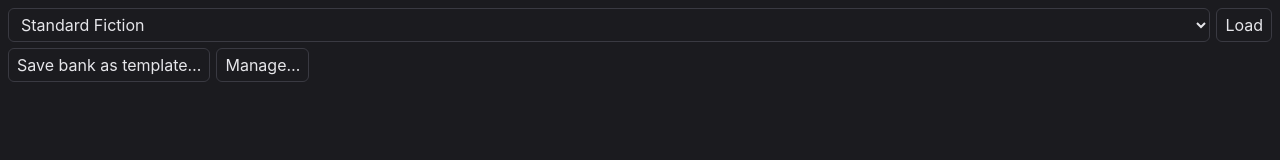
TemplateLoader, custom templates (F-4.11) › saves the whole bank under a name and selects the new template
This screenshot has width=1280, height=160.
Click the button "Save bank as template…": (109, 65) [8,48,210,82]
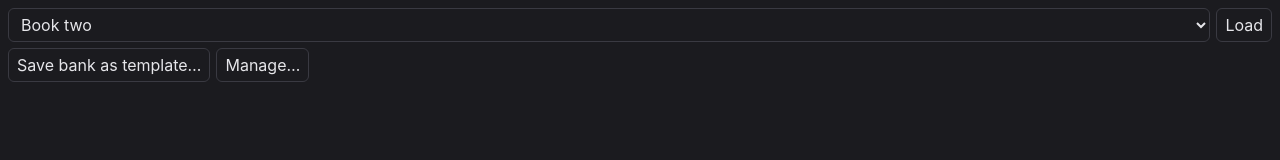
Result: the dropdown named "Template" shows "Book two" at [8,8,1210,42]
